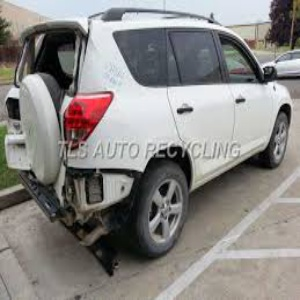bumper: (55, 168, 132, 256)
